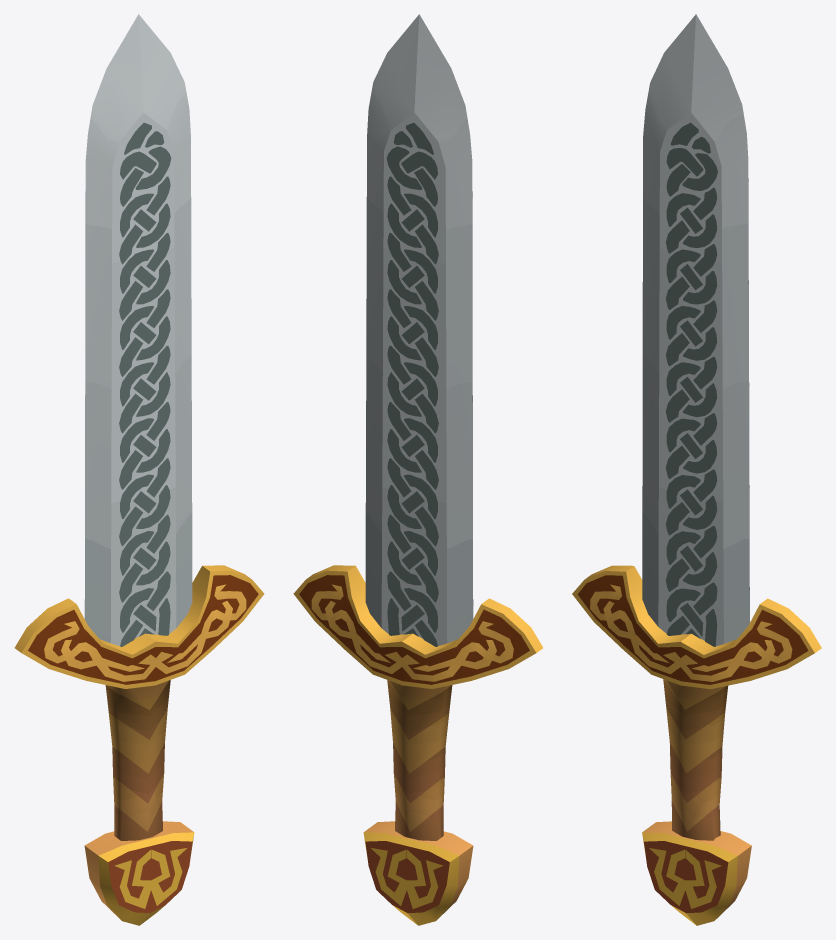
The model's file is 27-Pattern.gltf.
3 views of the same model, side by side, from view 1: azimuth 30°, elevation 25°; view 2: azimuth 150°, elevation 25°; view 3: azimuth 330°, elevation 25° (orthographic).
Visible parts, largest first — view 1: s, 3, 2, 4, 1; view 2: 1, 4, 5, 3, s; view 3: s, 2, 3, 5, 1.
Boxes of the visible parts, x1,y1,x2,y2 form: s: [84, 14, 192, 840]; 3: [18, 584, 246, 925]; 2: [44, 568, 264, 924]; 4: [14, 598, 117, 913]; 1: [84, 191, 118, 838]; 1: [365, 14, 473, 840]; 4: [311, 584, 539, 925]; 5: [293, 568, 513, 924]; 3: [440, 598, 543, 913]; s: [439, 191, 473, 838]; s: [642, 14, 749, 840]; 2: [590, 584, 818, 925]; 3: [572, 568, 792, 925]; 5: [716, 598, 821, 918]; 1: [715, 178, 749, 837].
Size of the model in its own units: 0.2927 by 1.05 by 0.0691.
1 material, 1 textured.
